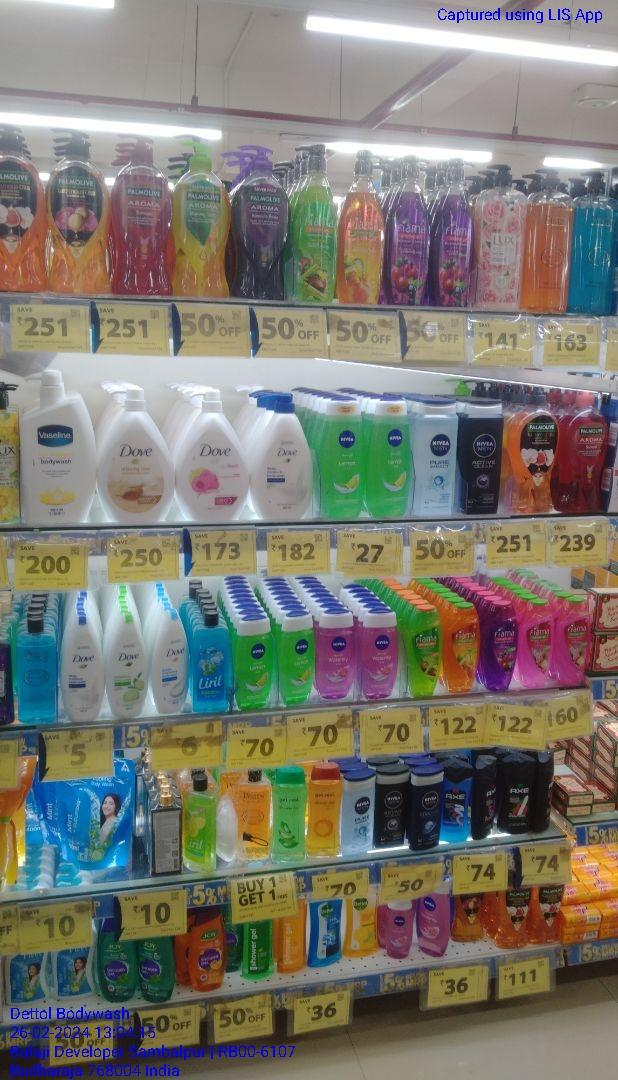Dettol_Bodywash_Cool: (310, 900, 344, 967)
Dettol_Bodywash_Refresh: (345, 898, 380, 957)
Dove_Deep_Moisture_Body_Wash_250ML: (58, 612, 104, 723)
Dove_Gentle_Exfoliating_Body_Wash_250ML: (150, 611, 191, 713)
Dove_Refreshing_Body_Wash_250ML: (107, 612, 149, 718)
Fiama_Shower_Gel_Lemongrass_and_Jojoba_250ML: (405, 606, 440, 696)
Fiama_Shower_Gel_Patchouli_and_Macadamia_250ML: (554, 594, 594, 688), (518, 596, 553, 690)
Fiama_Shower_Gel_Peach_and_Avocado_250ML: (441, 601, 480, 693)
Joy_Shower_Gel_Mandarin_and_Lemongrass_250ML: (190, 908, 224, 993)
Joy_Shower_Gel_Mint_and_Eucalyptus_250ML: (97, 926, 138, 1001), (138, 936, 174, 1002)
Nivea_Shower_Gel_Lemon_and_Oil_250ML: (364, 394, 410, 519), (323, 397, 363, 520), (233, 612, 275, 710), (276, 611, 316, 703)
Nivea_Shower_Gel_Waterlily_and_Oil_250ML: (357, 607, 398, 700), (318, 609, 355, 698), (416, 888, 449, 956), (385, 898, 413, 961)
